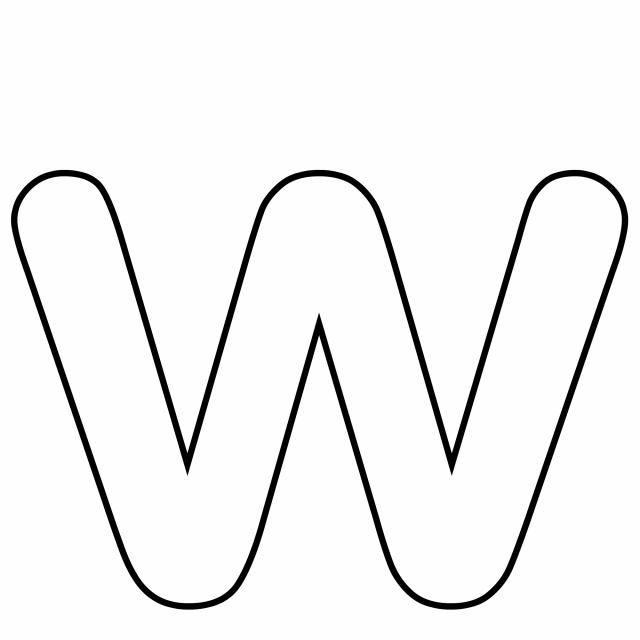W: (11, 86, 628, 630)
